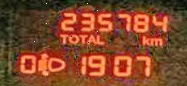0: (112, 54, 130, 77), (19, 54, 34, 73)
1: (80, 54, 85, 75)
2: (60, 12, 76, 30)
3: (79, 11, 93, 30)
4: (151, 13, 168, 32)
5: (97, 10, 111, 30)
7: (135, 53, 152, 77), (115, 12, 129, 31)
8: (132, 13, 147, 32)
9: (88, 53, 105, 75)
X: (149, 36, 162, 45), (67, 33, 78, 43), (86, 33, 95, 44), (58, 32, 66, 43), (141, 34, 148, 45), (96, 33, 103, 44), (78, 33, 86, 42)
